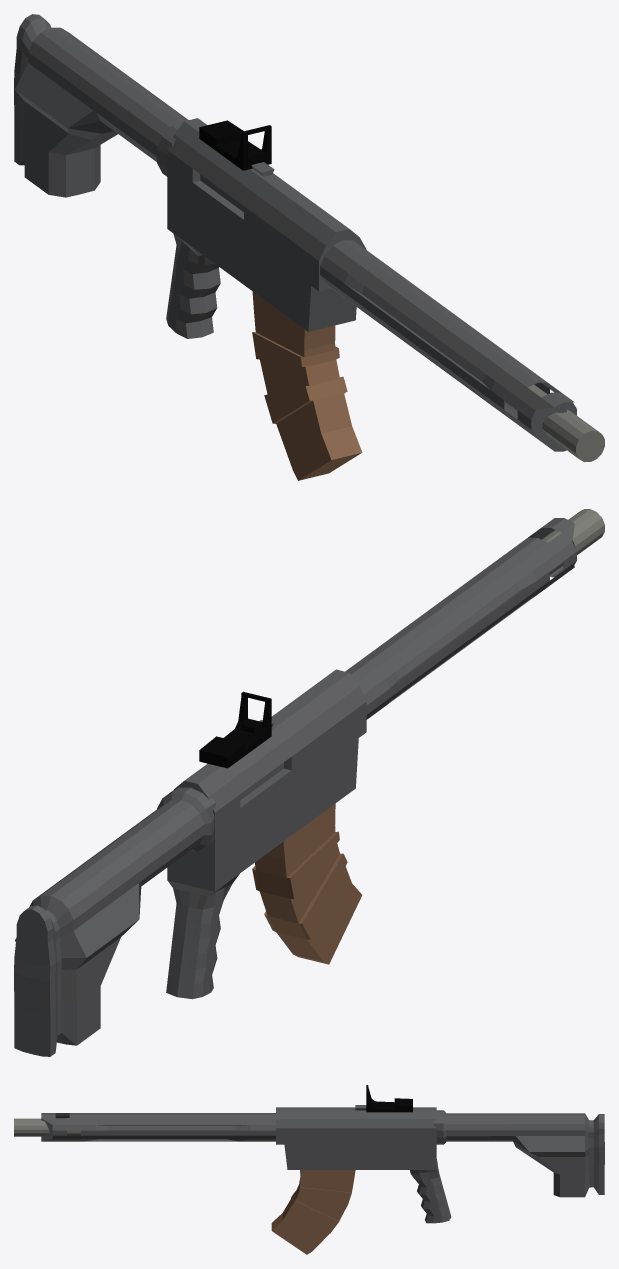
The picture shows the model from 3 angles, top to bottom: view 1: azimuth 30°, elevation 25°; view 2: azimuth 150°, elevation 25°; view 3: azimuth 270°, elevation 25°; orthographic projection. The views are drawn at different scales.
Visible parts, largest first — view 1: Цилиндр, Куб, Куб.001; view 2: Цилиндр, Куб, Куб.001; view 3: Цилиндр, Куб, Куб.001.
Boxes of the visible parts, left/top/right/bottom form: Цилиндр: left=14, top=14, right=604, bottom=462; Куб: left=252, top=291, right=362, bottom=480; Куб.001: left=199, top=120, right=271, bottom=170; Цилиндр: left=14, top=509, right=604, bottom=1056; Куб: left=252, top=803, right=362, bottom=964; Куб.001: left=199, top=691, right=271, bottom=768; Цилиндр: left=14, top=1105, right=604, bottom=1223; Куб: left=271, top=1170, right=355, bottom=1254; Куб.001: left=366, top=1085, right=412, bottom=1112.
Bounding box in the file's own units: 190 × 774 × 2555.
